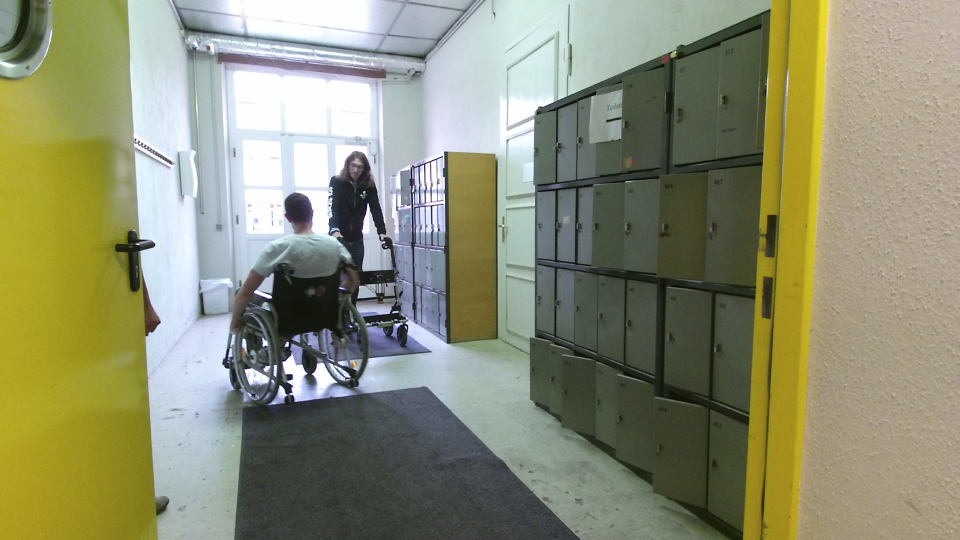wheelchair: (220, 187, 373, 409)
